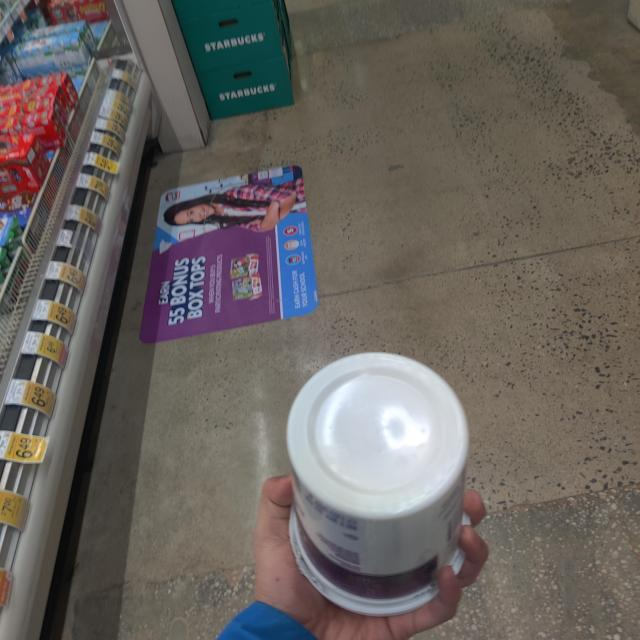Yogurt: (293, 350, 474, 612)
